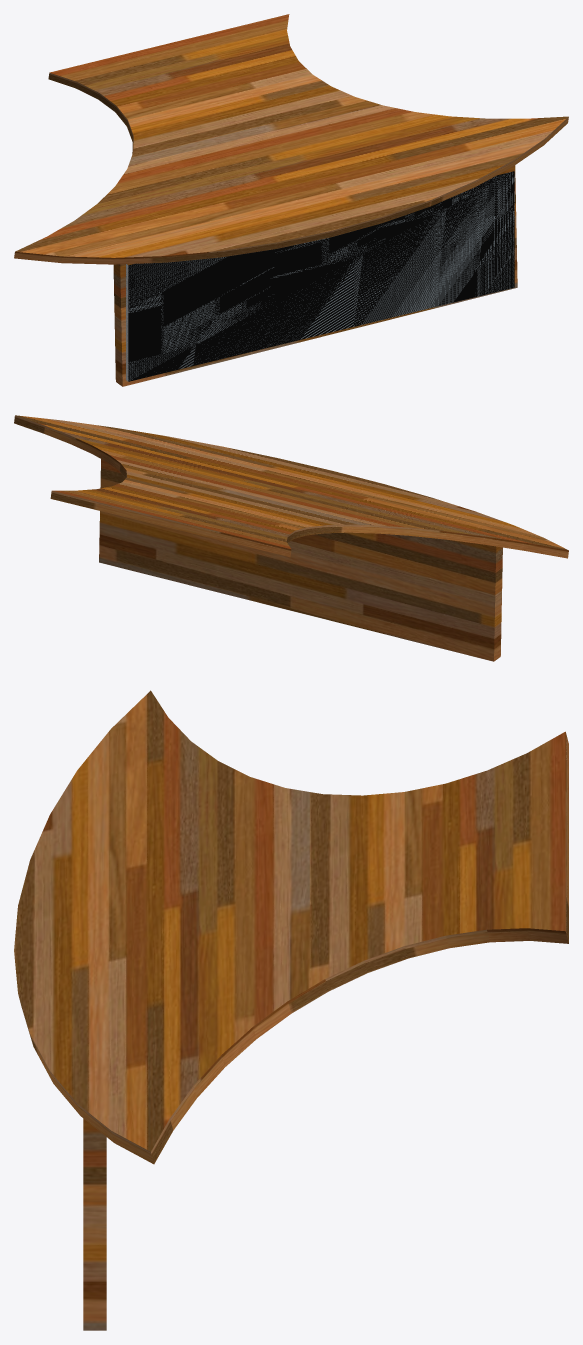
Rendered from desk.dae.
3 views of the same model, one above another, from view 1: azimuth 30°, elevation 25°; view 2: azimuth 150°, elevation 25°; view 3: azimuth 270°, elevation 25° (orthographic). The views are drawn at different scales.
Visible parts, largest first — view 1: group_0, group_1, group_3; view 2: group_3, group_0; view 3: group_0, group_3.
Part boxes in pixels (bbox=[...]): group_0: bbox=[14, 14, 568, 264]; group_1: bbox=[128, 171, 514, 381]; group_3: bbox=[113, 165, 517, 386]; group_3: bbox=[99, 459, 502, 661]; group_0: bbox=[14, 415, 568, 558]; group_0: bbox=[14, 690, 568, 1164]; group_3: bbox=[83, 1118, 106, 1330].
Size of the model in its own units: 158 by 80.43 by 53.02.
4 materials, 1 textured.
